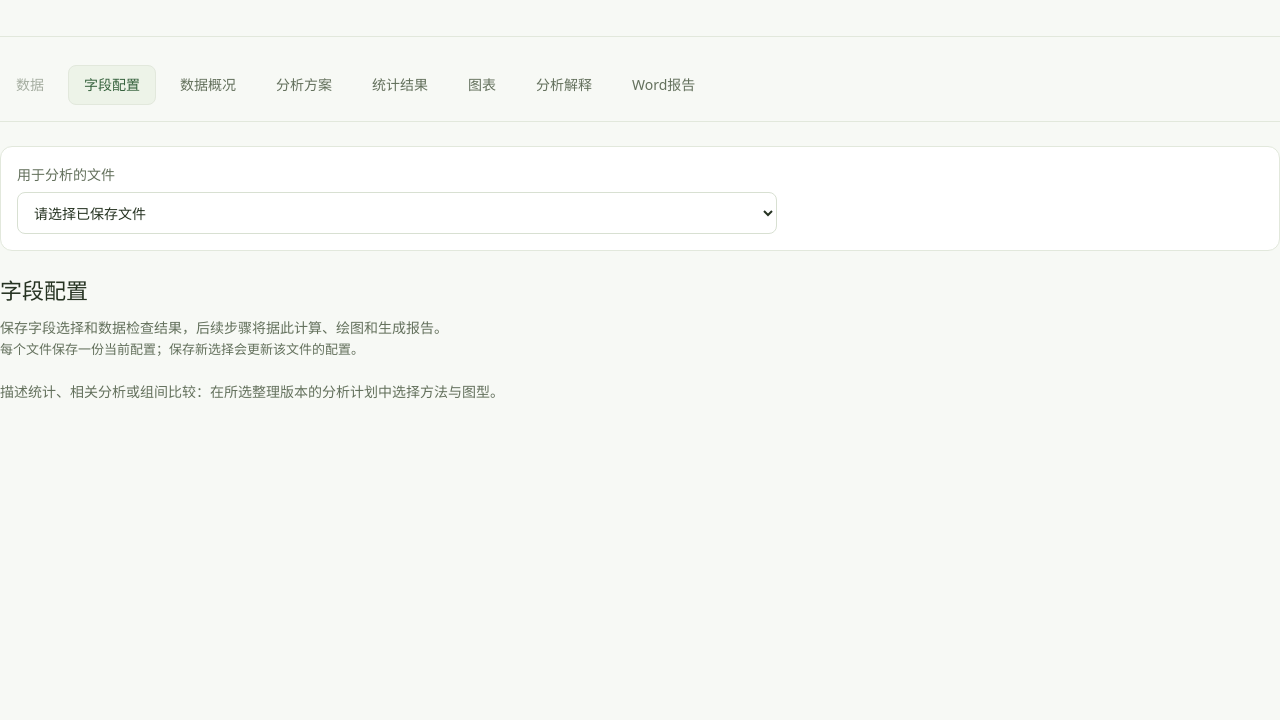
Test: restores persisted statistics without automatically executing
This screenshot has width=1280, height=720.
Select "研究.xlsx · 2026/9/29 01:00:00" in the dropdown labelled "用于分析的文件". click: (397, 213)
box: [17,192,777,234]
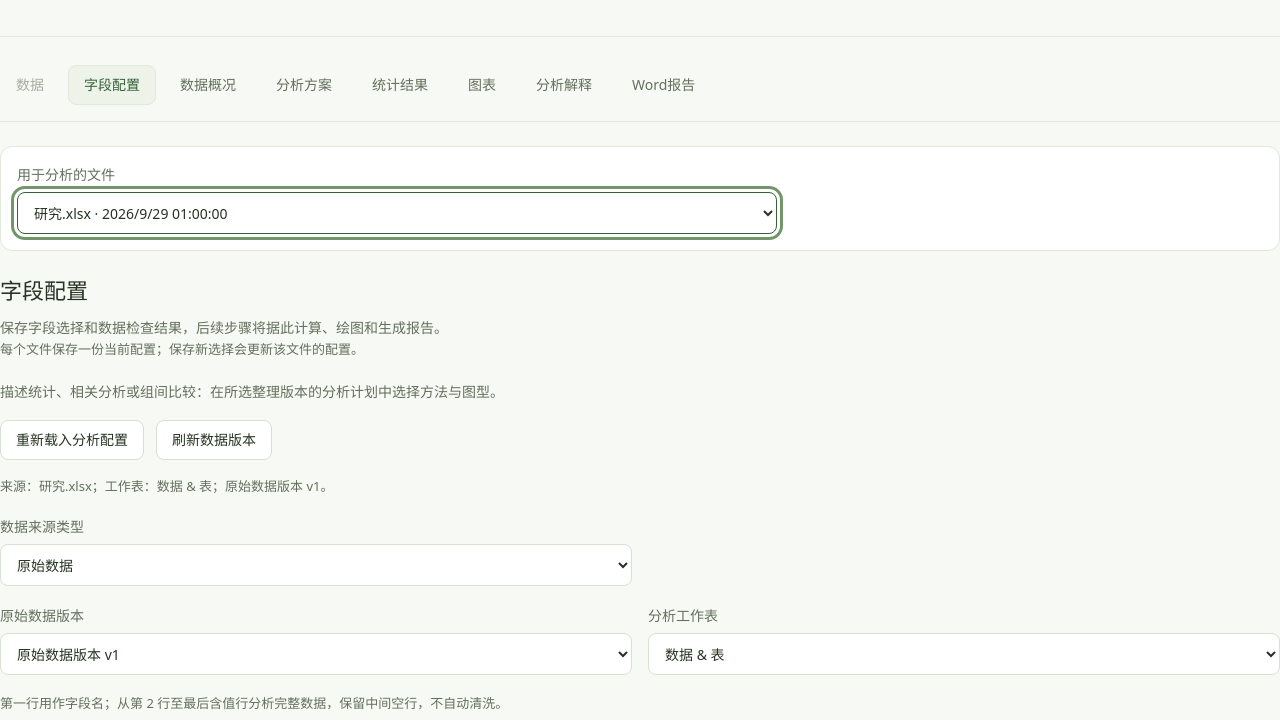
Click the button "统计结果". click: (400, 85)
box: [356,65,444,105]
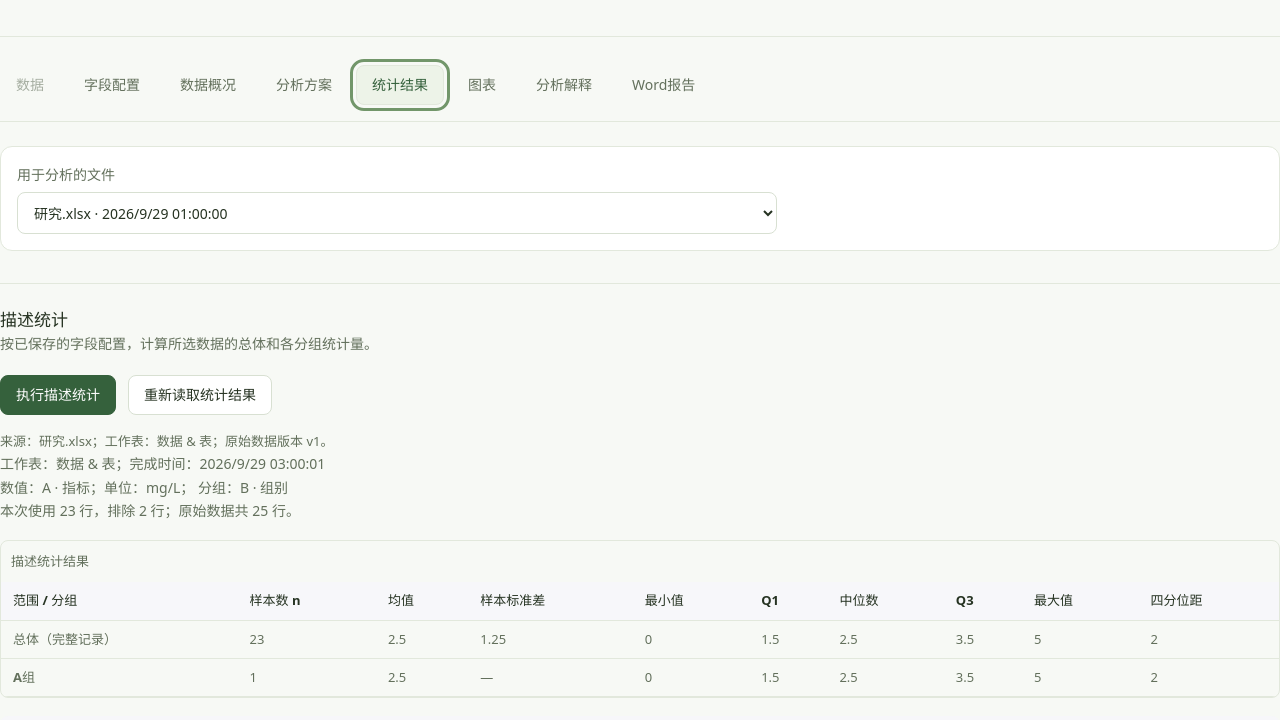
expect the table "描述统计结果" is shown: met, box [1,541,1279,698]
